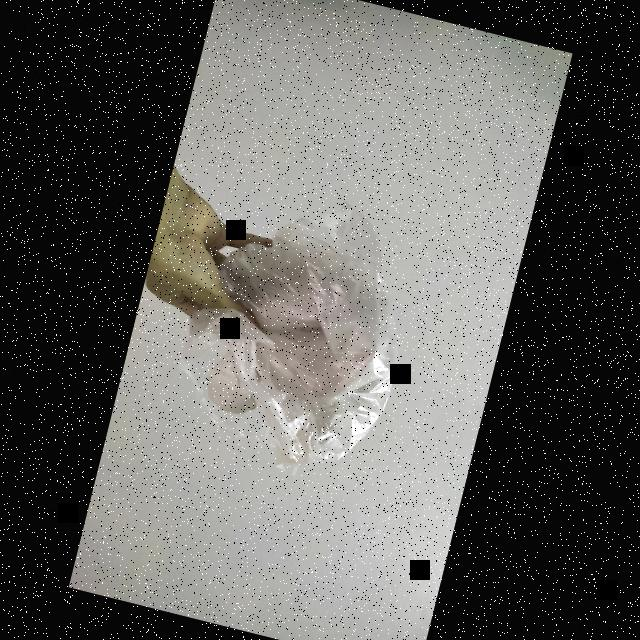plastic_bag: (153, 166, 441, 502)
